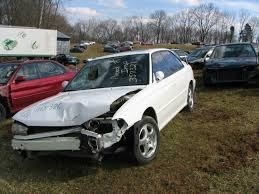Broken-glass: (65, 56, 121, 90), (80, 115, 118, 139)
Dent: (28, 100, 87, 124)
Smashed: (11, 90, 143, 157)
